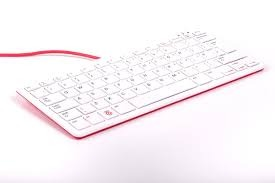keyboard: (12, 27, 271, 142)
